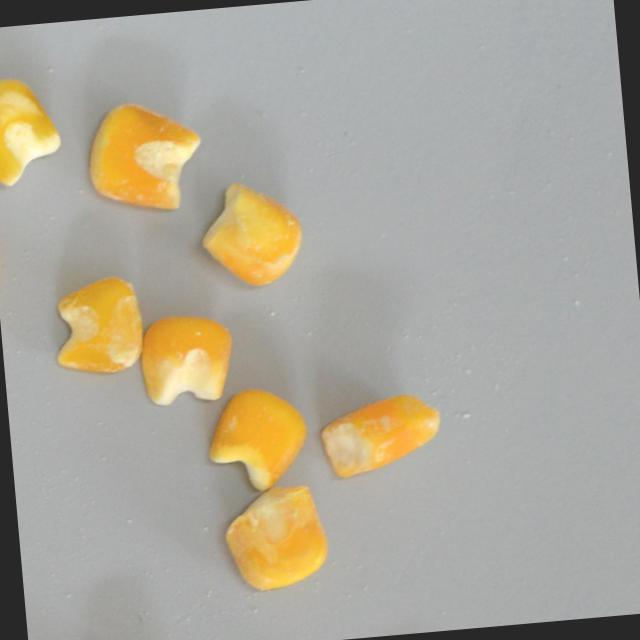no_canjicado: (202, 383, 312, 494), (135, 308, 238, 408), (0, 70, 65, 186)
pelicula: (82, 96, 205, 217), (197, 175, 309, 291), (222, 482, 331, 593), (316, 390, 444, 480), (50, 273, 145, 376)
